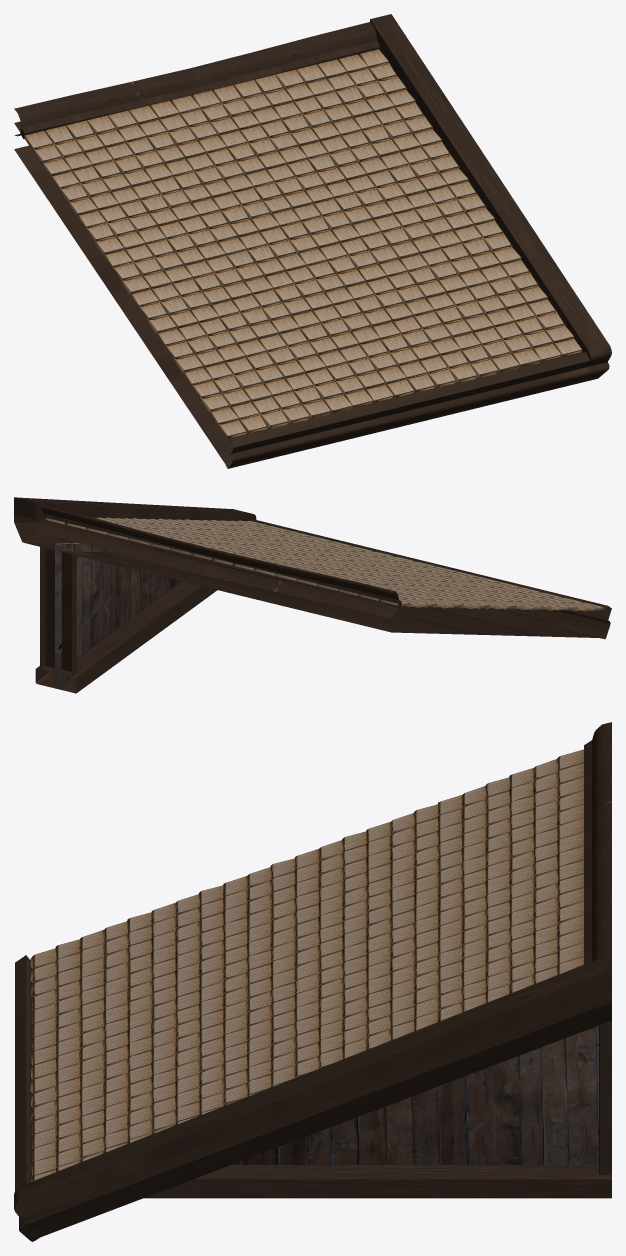
The model's file is OutdoorArchitecture_Roof02_Tiles01_BShortt.fbx.
3 renders of one model, top to bottom at view 1: azimuth 30°, elevation 25°; view 2: azimuth 150°, elevation 25°; view 3: azimuth 270°, elevation 25°, orthographic. The views are drawn at different scales.
Parts seen in each view (by area): view 1: OutdoorArchitecture_Roof02_Tiles01_BShortt; view 2: OutdoorArchitecture_Roof02_Tiles01_BShortt; view 3: OutdoorArchitecture_Roof02_Tiles01_BShortt.
Part boxes in pixels (box(x1,y1,x2,y2)): OutdoorArchitecture_Roof02_Tiles01_BShortt: box(14, 14, 611, 468); OutdoorArchitecture_Roof02_Tiles01_BShortt: box(14, 497, 611, 693); OutdoorArchitecture_Roof02_Tiles01_BShortt: box(14, 722, 611, 1241).
Size of the model in its own units: 338 by 176 by 342.
